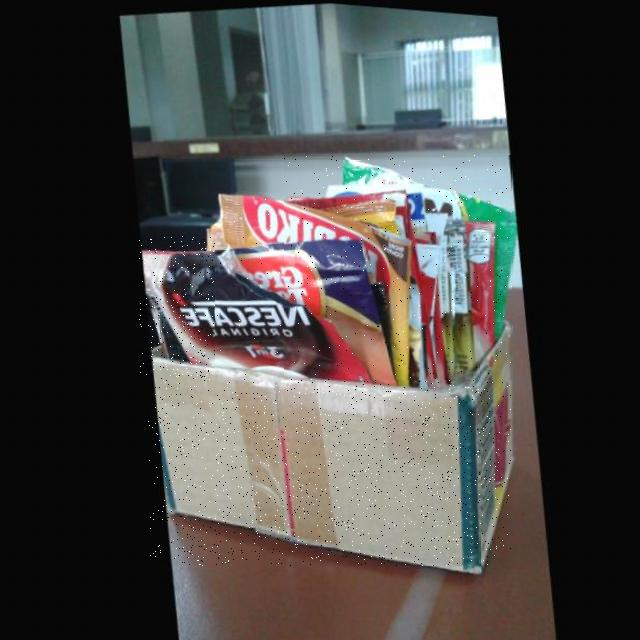paper: (149, 315, 511, 565)
wrapper: (285, 155, 512, 379), (215, 192, 411, 379), (138, 236, 393, 379)
